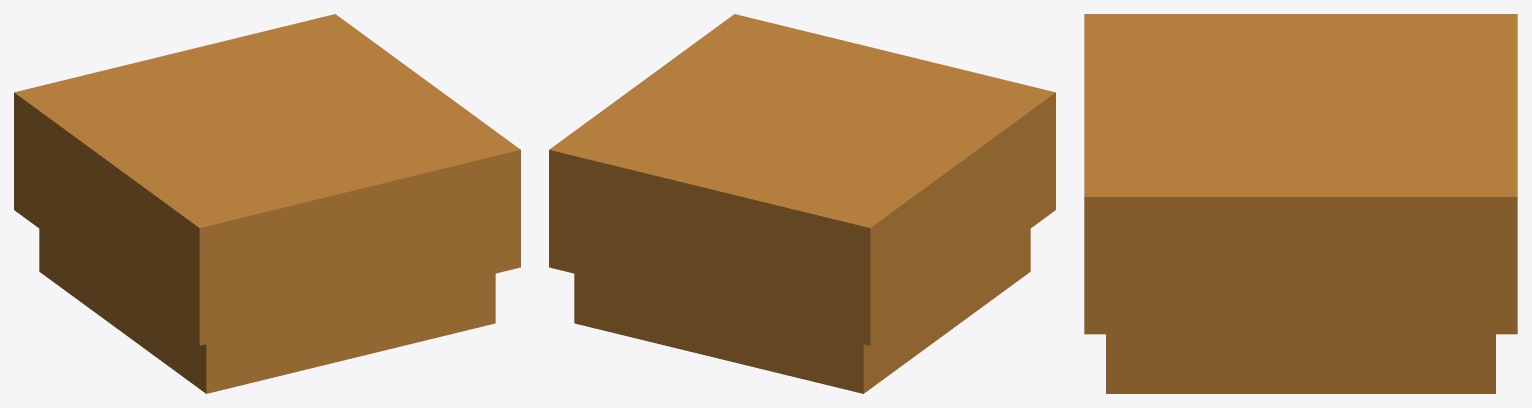
Rendered from product_soup_stock.glb.
3 views of the same model, side by side, from view 1: azimuth 30°, elevation 25°; view 2: azimuth 150°, elevation 25°; view 3: azimuth 270°, elevation 25° (orthographic). The views are drawn at different scales.
Visible parts, largest first — view 1: product.soup_stock; view 2: product.soup_stock; view 3: product.soup_stock.
Part boxes in pixels (x1=…): product.soup_stock: x1=14, y1=14, x2=520, y2=393; product.soup_stock: x1=549, y1=14, x2=1055, y2=393; product.soup_stock: x1=1084, y1=14, x2=1517, y2=393.
Bounding box in the file's own units: 0.24 × 0.126 × 0.24.
